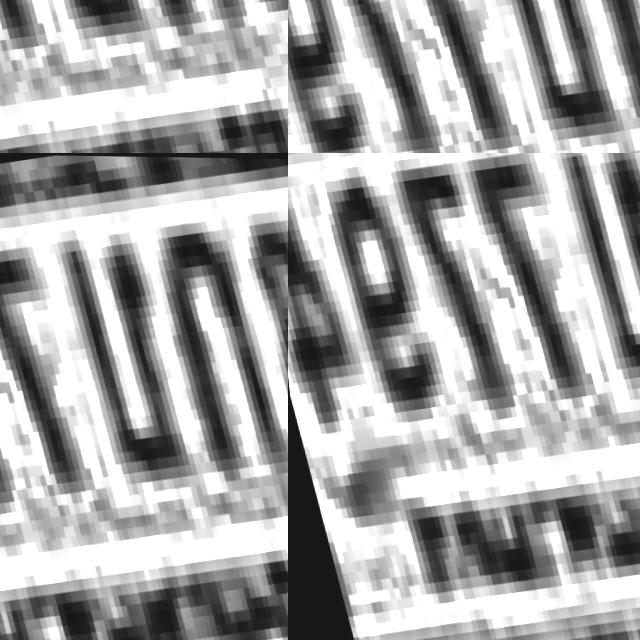license-plate: (288, 153, 640, 640), (0, 153, 288, 640), (288, 0, 640, 153)
